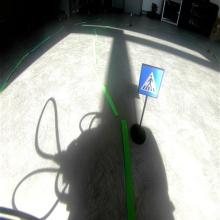crosswalk: (138, 63, 165, 99)
